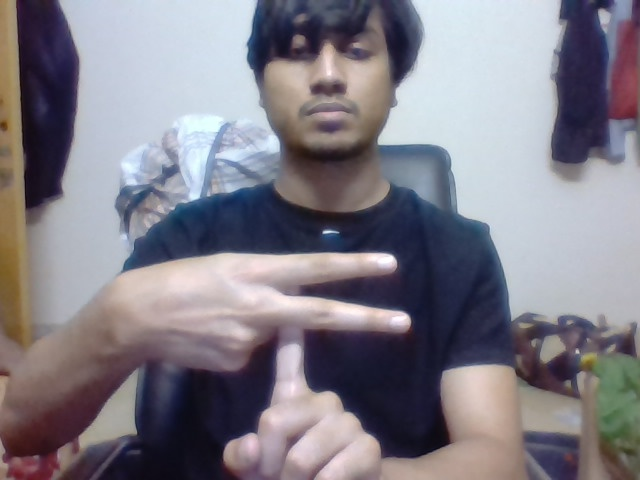F: (265, 250, 413, 384)
